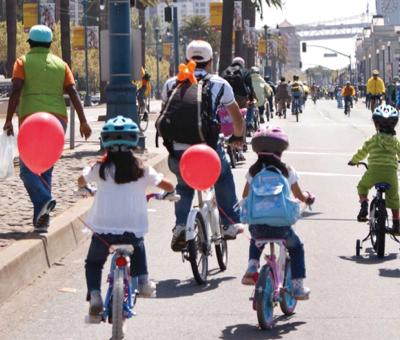With Helmet: (98, 113, 141, 157), (248, 122, 292, 162)
